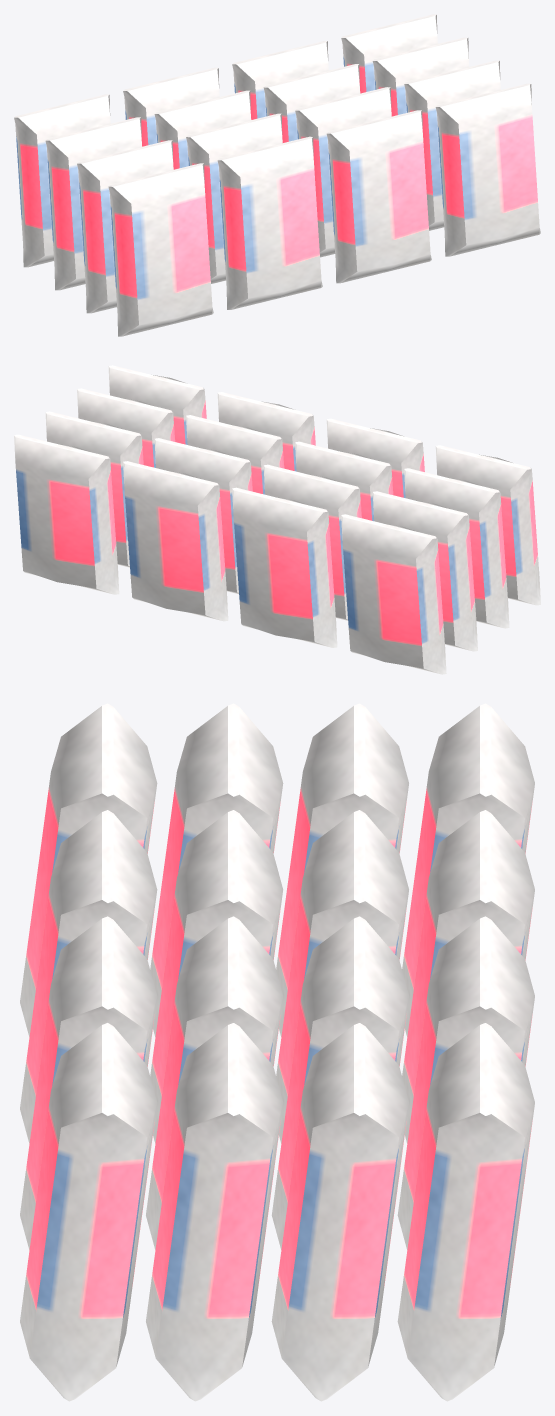
File: BlueDoritos_Chip.fbx
The picture shows the model from 3 angles, top to bottom: view 1: azimuth 30°, elevation 25°; view 2: azimuth 150°, elevation 25°; view 3: azimuth 270°, elevation 25°; orthographic projection. The views are drawn at different scales.
Parts seen in each view (by area): view 1: BlueDorito81; view 2: BlueDorito81; view 3: BlueDorito81.
Part boxes in pixels (<box>): BlueDorito81: <box>14,14,540,336</box>; BlueDorito81: <box>14,365,540,674</box>; BlueDorito81: <box>20,703,534,1401</box>.
Bounding box in the file's own units: 116 × 37.66 × 61.37.
